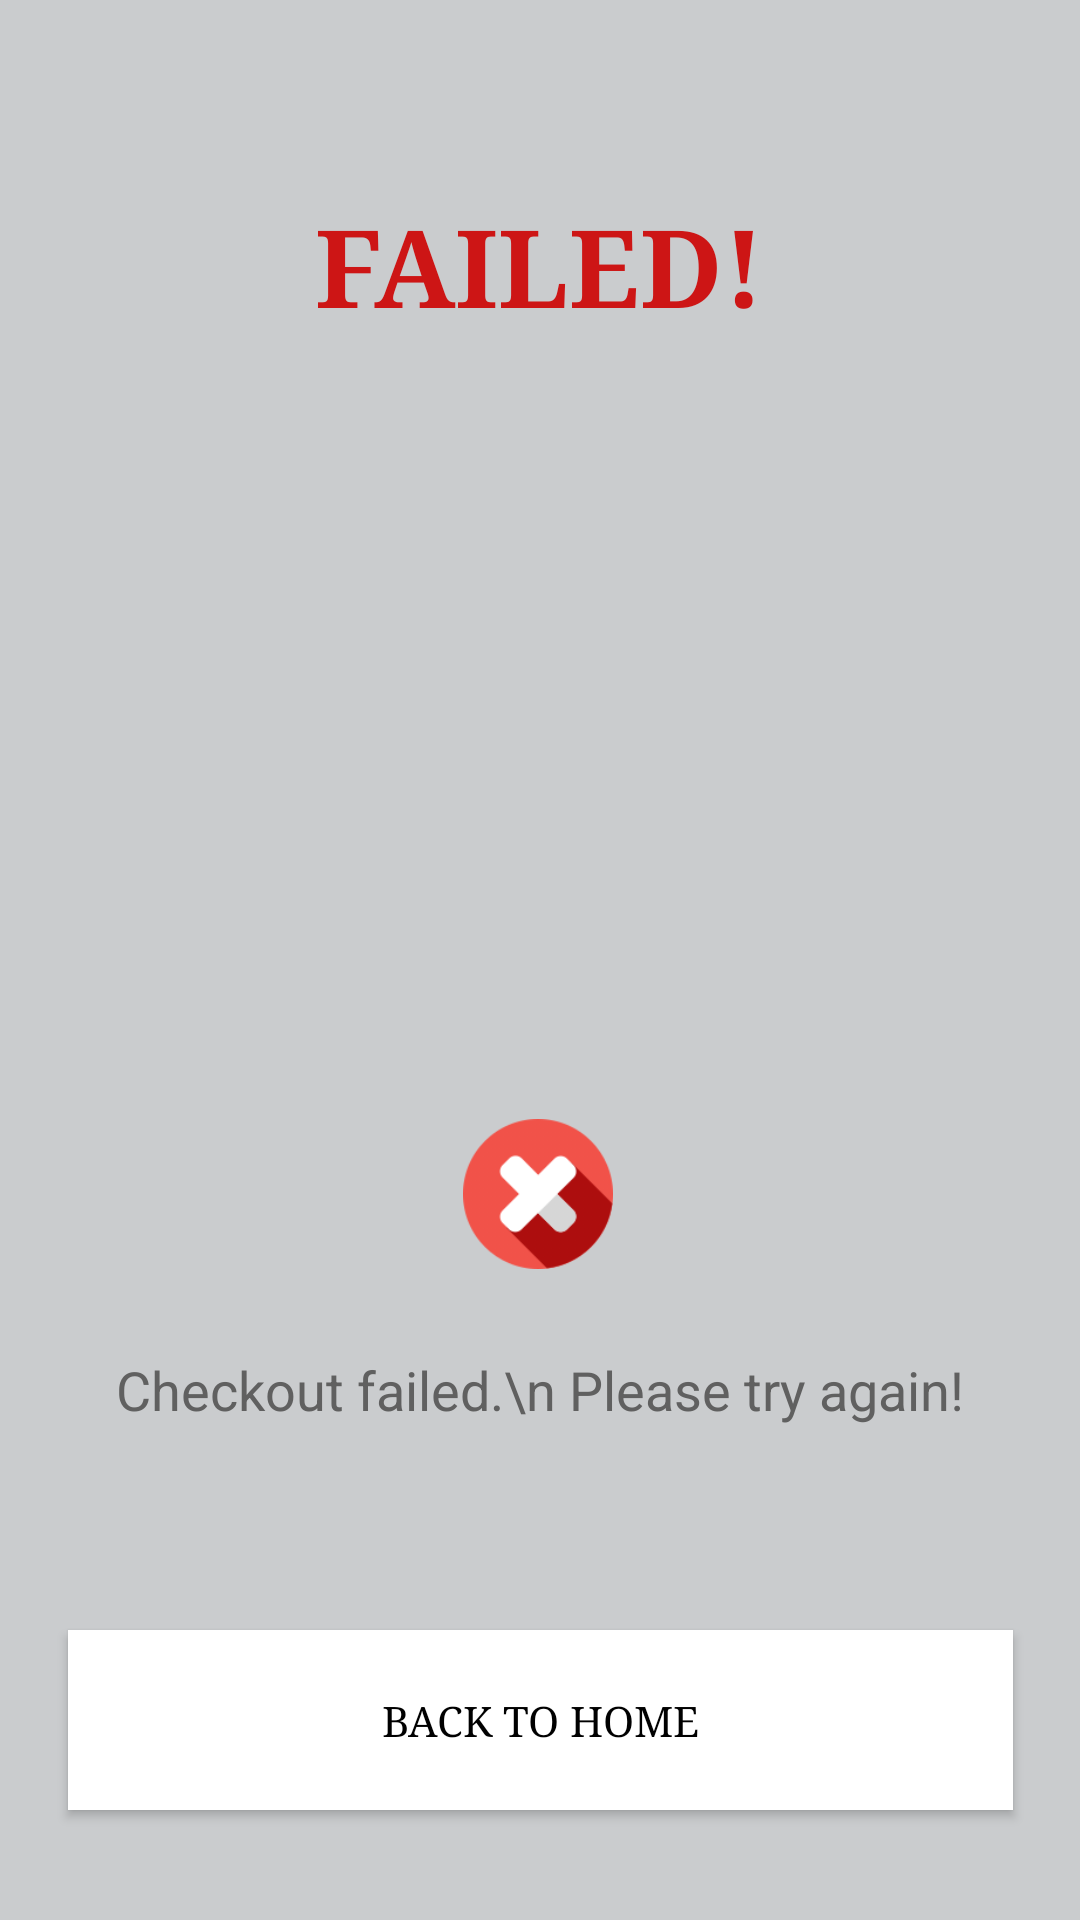

Where icons sit on this 1080×1920 app screen, as (x1, y1, x2, y2):
cancel: (463, 1119, 613, 1269)
